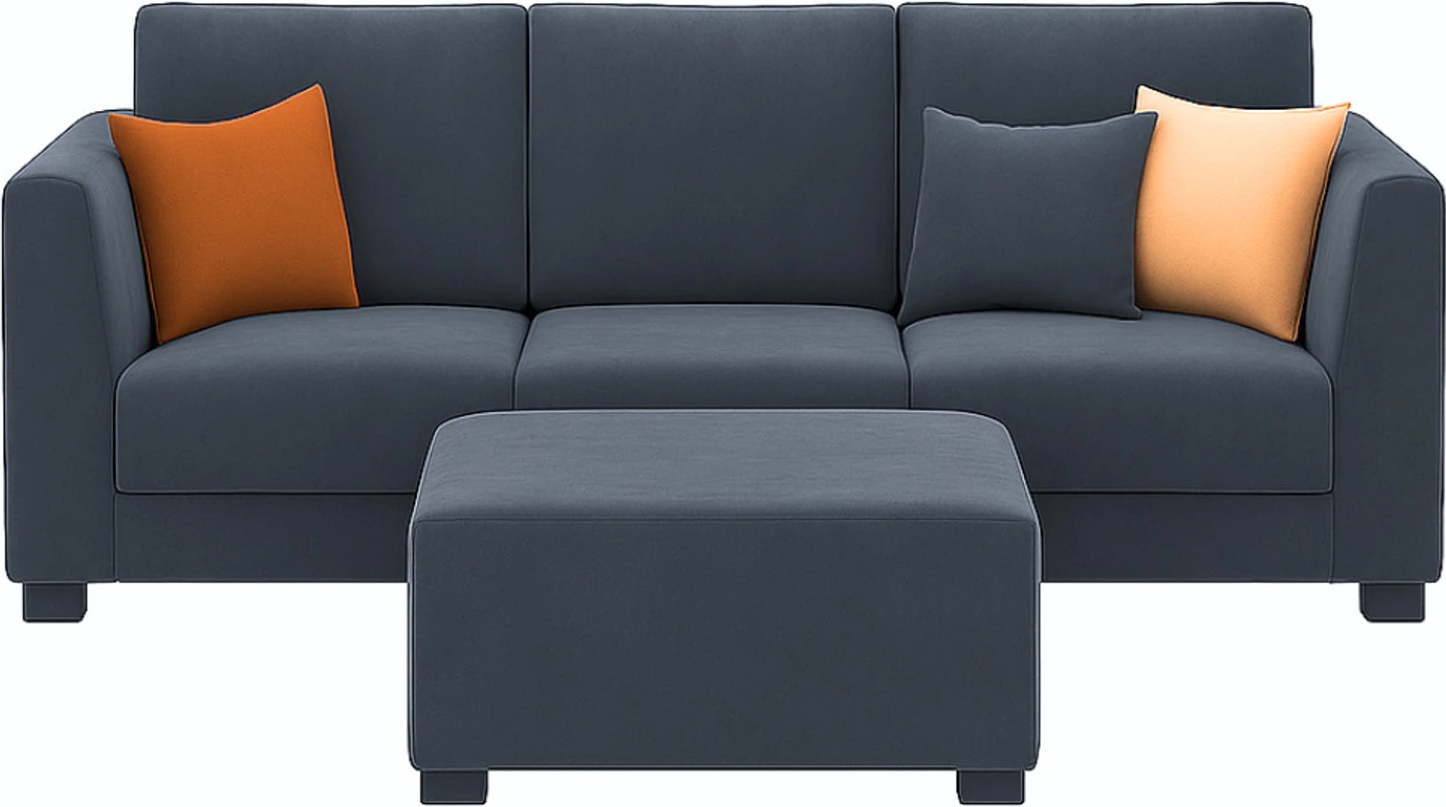3seatersofa: (0, 4, 1441, 621)
backrest: (136, 5, 896, 308), (897, 4, 1311, 270)
base: (114, 494, 411, 581), (1034, 496, 1330, 581)
leftarmrest: (1305, 116, 1445, 580)
leg: (1360, 583, 1423, 622), (23, 583, 86, 622)
pillow: (900, 86, 1348, 340), (111, 87, 357, 340)
rightarmrest: (0, 113, 154, 620)
seat: (114, 305, 1331, 493)
